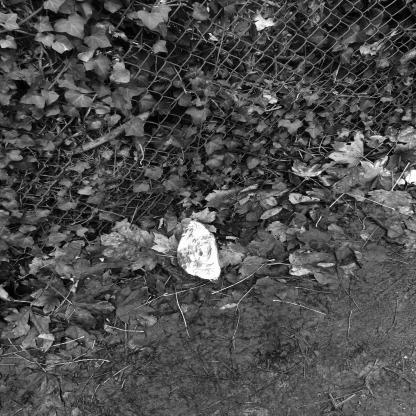metal: (176, 219, 222, 280)
